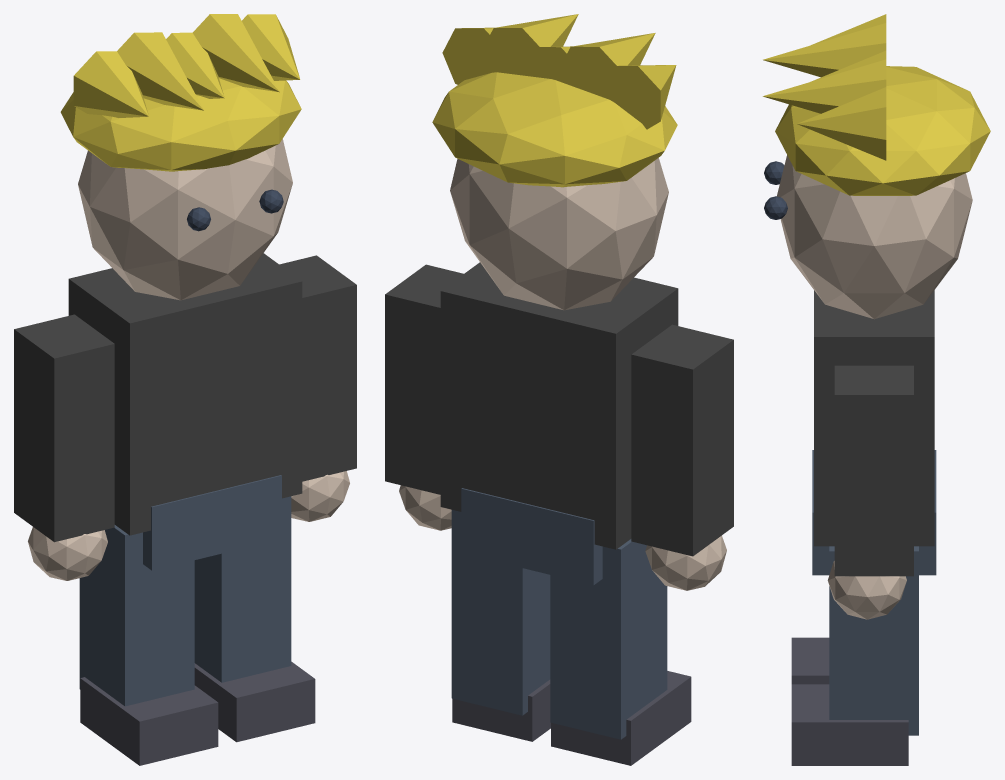
The model's file is sanji.glb.
3 views of the same model, side by side, from view 1: azimuth 30°, elevation 25°; view 2: azimuth 150°, elevation 25°; view 3: azimuth 270°, elevation 25° (orthographic). The views are drawn at different scales.
Visible parts, largest first — view 1: part_000, part_010, part_002, part_004, part_013, part_008, part_006, part_001, part_005, part_009, part_014, part_015 (+5 smaller); view 2: part_000, part_010, part_002, part_013, part_004, part_008, part_006, part_001, part_005, part_015, part_014, part_017 (+5 smaller); view 3: part_010, part_006, part_013, part_000, part_008, part_009, part_018, part_015, part_017, part_007, part_005, part_001 (+1 smaller).
Part boxes in pixels (x1=…): part_000: x1=68, y1=253, x2=302, y2=535; part_010: x1=78, y1=139, x2=292, y2=300; part_002: x1=14, y1=314, x2=114, y2=542; part_004: x1=79, y1=525, x2=194, y2=706; part_013: x1=60, y1=78, x2=301, y2=171; part_008: x1=194, y1=496, x2=291, y2=682; part_006: x1=279, y1=255, x2=356, y2=481; part_001: x1=143, y1=475, x2=281, y2=570; part_005: x1=80, y1=677, x2=218, y2=765; part_009: x1=194, y1=661, x2=315, y2=742; part_014: x1=73, y1=51, x2=148, y2=117; part_015: x1=117, y1=32, x2=203, y2=110; part_000: x1=440, y1=262, x2=678, y2=549; part_010: x1=450, y1=158, x2=668, y2=310; part_002: x1=631, y1=324, x2=733, y2=556; part_013: x1=432, y1=72, x2=677, y2=187; part_004: x1=550, y1=539, x2=667, y2=739; part_008: x1=451, y1=510, x2=550, y2=715; part_006: x1=385, y1=264, x2=463, y2=494; part_001: x1=461, y1=488, x2=602, y2=585; part_005: x1=551, y1=671, x2=691, y2=765; part_015: x1=558, y1=33, x2=655, y2=103; part_014: x1=596, y1=65, x2=676, y2=129; part_017: x1=481, y1=14, x2=578, y2=77; part_010: x1=777, y1=155, x2=972, y2=319; part_006: x1=834, y1=365, x2=913, y2=576; part_013: x1=775, y1=66, x2=990, y2=195; part_000: x1=814, y1=290, x2=934, y2=546; part_008: x1=829, y1=546, x2=918, y2=735; part_009: x1=791, y1=684, x2=908, y2=765; part_018: x1=797, y1=87, x2=886, y2=160; part_015: x1=763, y1=23, x2=886, y2=77; part_017: x1=763, y1=59, x2=886, y2=113; part_007: x1=827, y1=561, x2=906, y2=619; part_005: x1=791, y1=637, x2=829, y2=684; part_001: x1=812, y1=450, x2=936, y2=575.
Size of the model in its own units: 1.03 by 2.17 by 0.6628.
